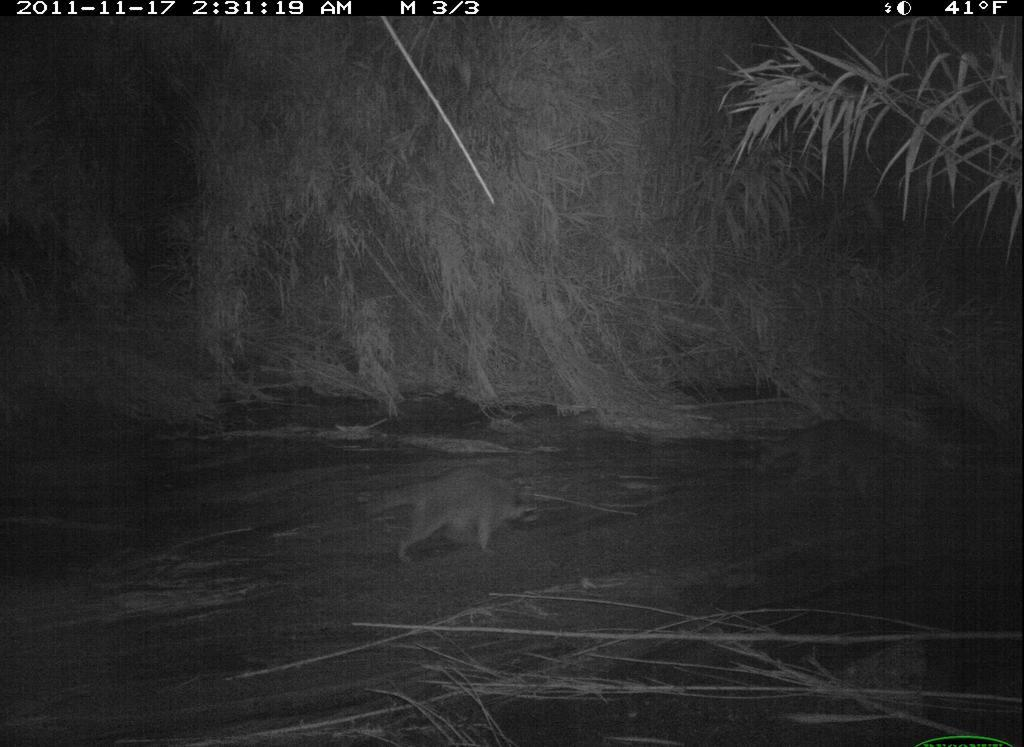raccoon: (337, 464, 551, 578)
